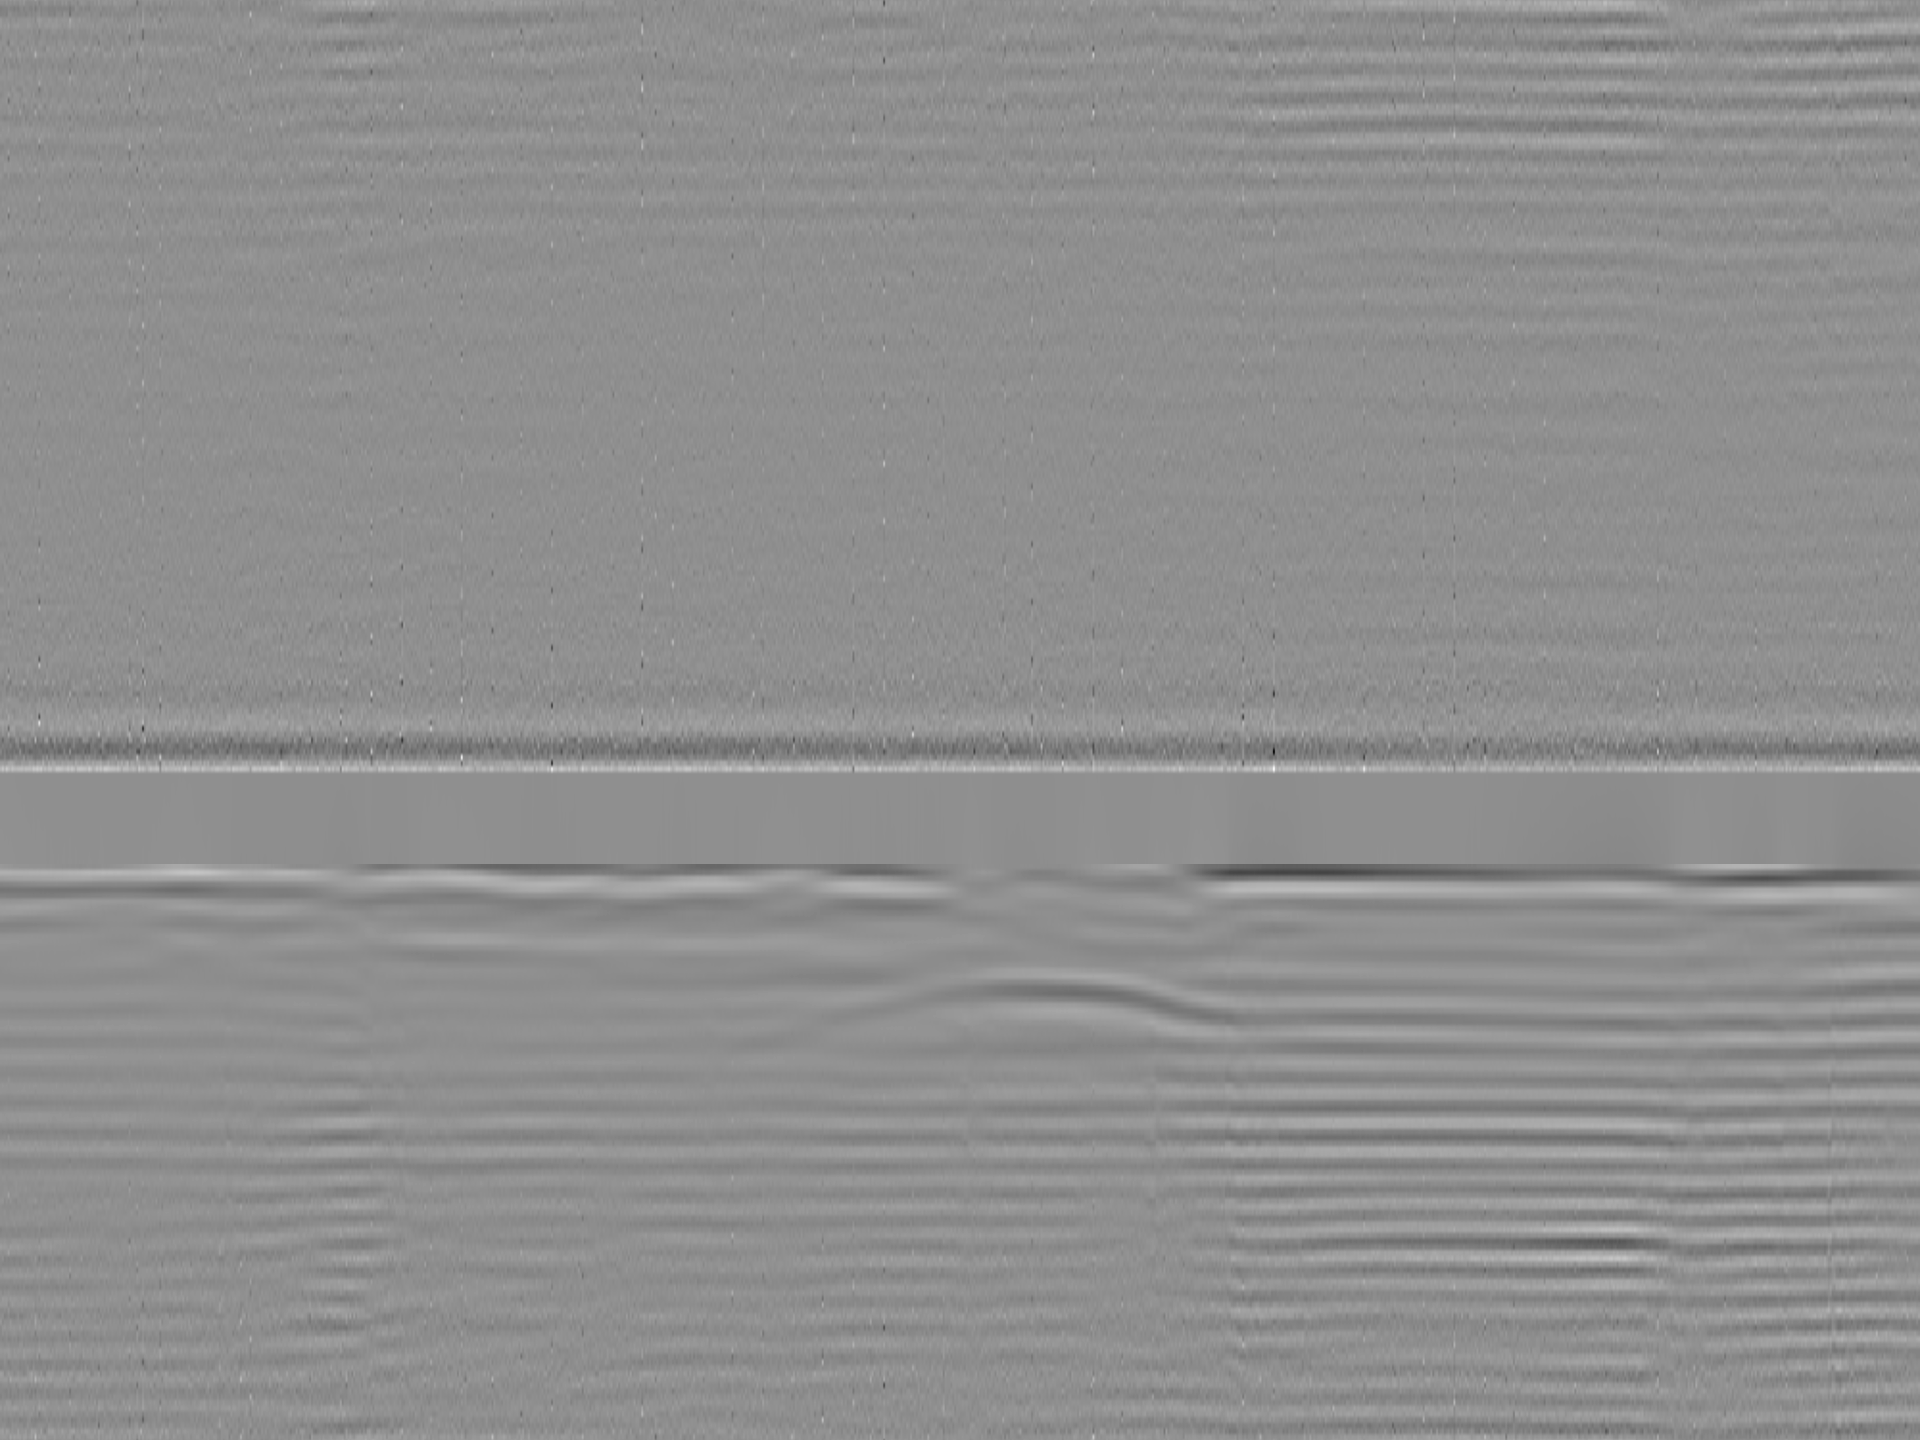Tunnel: (800, 965, 1258, 1039)
